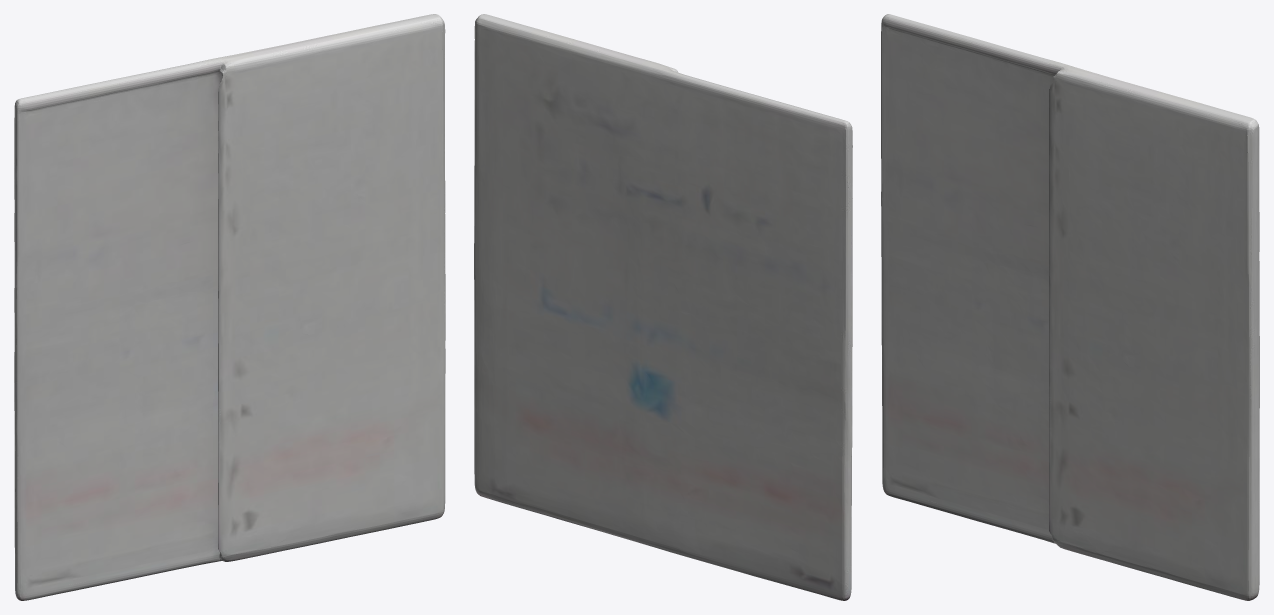
File: paper_poster_on_the_back_wall_000.glb
3 renders of one model, left to right at view 1: azimuth 30°, elevation 25°; view 2: azimuth 150°, elevation 25°; view 3: azimuth 330°, elevation 25°, orthographic. The views are drawn at different scales.
Parts seen in each view (by area): view 1: phase2_final_paper_poster_on_the_back_wall_000.obj; view 2: phase2_final_paper_poster_on_the_back_wall_000.obj; view 3: phase2_final_paper_poster_on_the_back_wall_000.obj.
Part boxes in pixels (x1=…): phase2_final_paper_poster_on_the_back_wall_000.obj: x1=14, y1=14, x2=445, y2=600; phase2_final_paper_poster_on_the_back_wall_000.obj: x1=474, y1=14, x2=852, y2=600; phase2_final_paper_poster_on_the_back_wall_000.obj: x1=881, y1=14, x2=1259, y2=600.
Size of the model in its own units: 0.2984 by 0.349 by 0.0333.
Materials: 1 (1 with a texture image).
